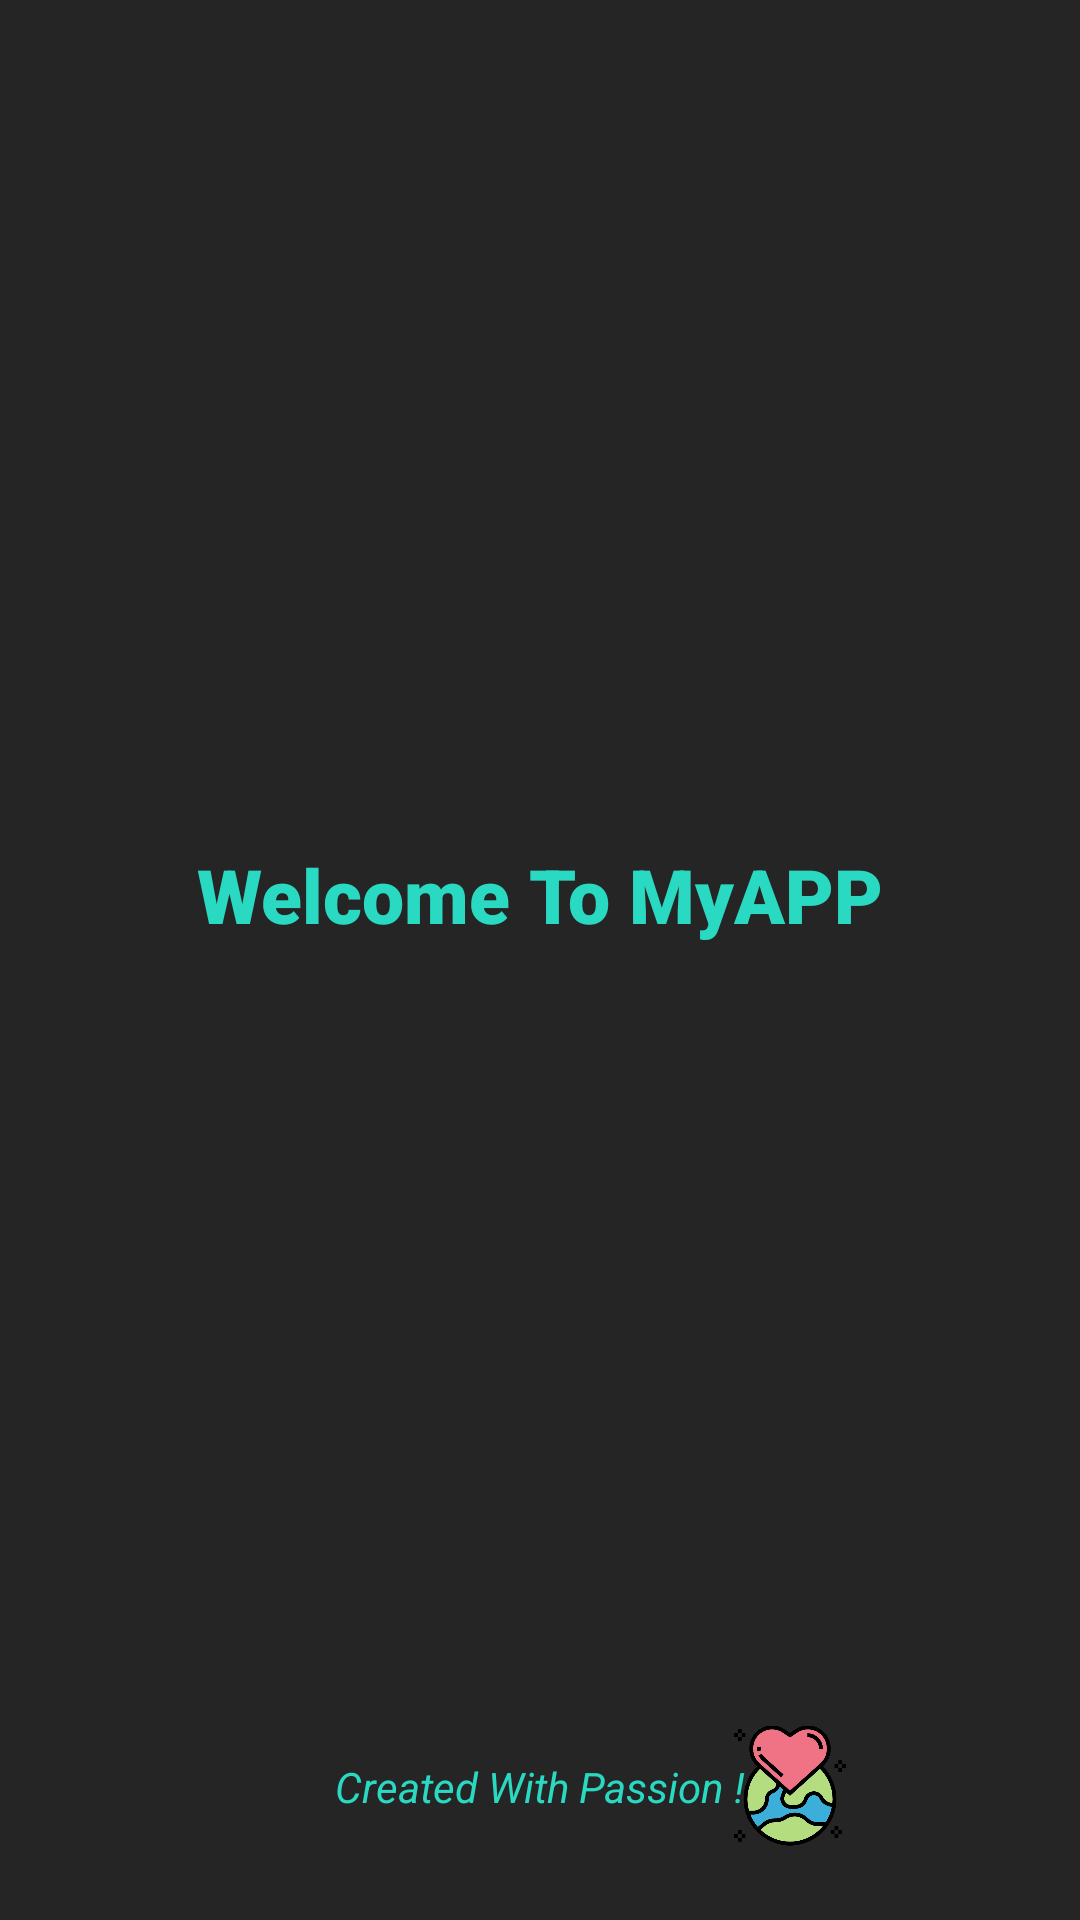

Screen size 1080px x 1920px. Icon name, then its box in pixels as (x1, y1, x2, y2):
world: (734, 1726, 846, 1846)
